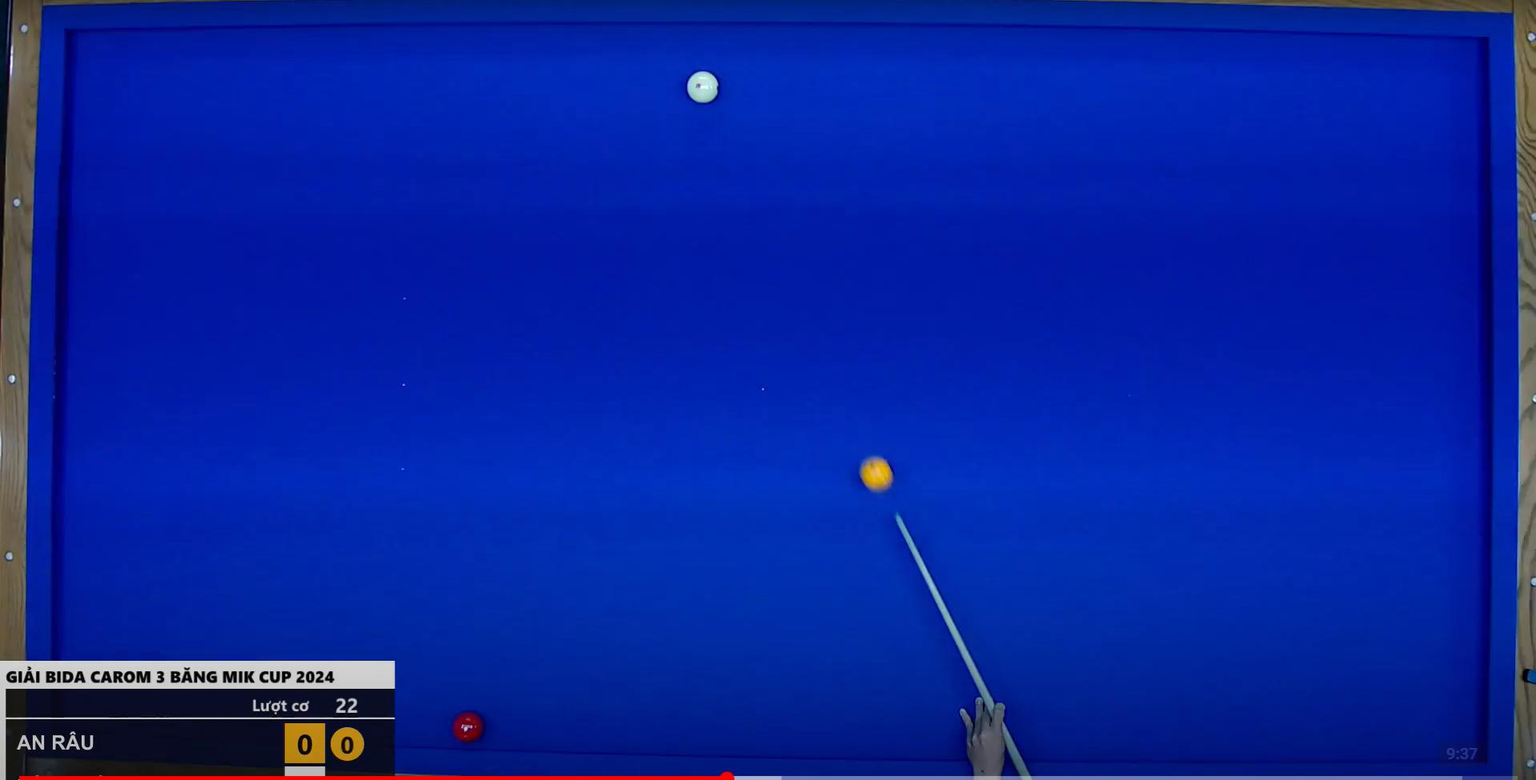red ball: (446, 707, 492, 749)
white ball: (683, 65, 726, 111)
yellow ball: (857, 453, 900, 498)
